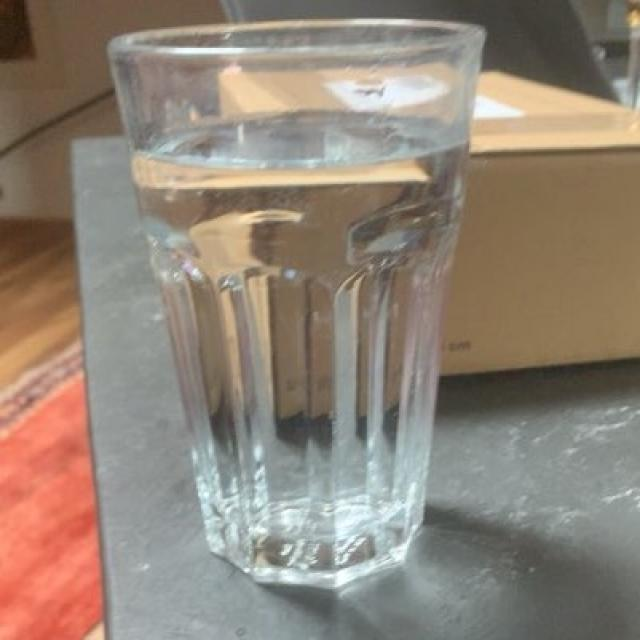water: (137, 128, 456, 554)
